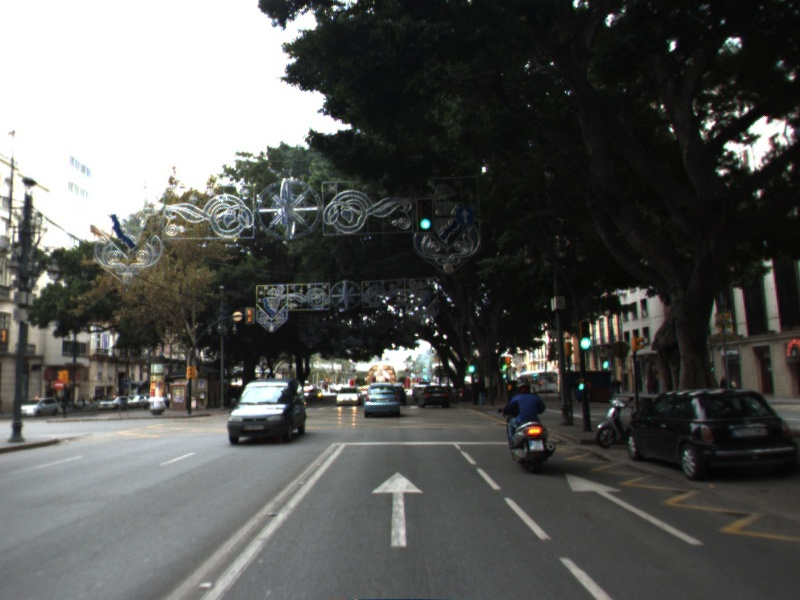STRAIGHT: (562, 469, 709, 549), (368, 468, 427, 550)
